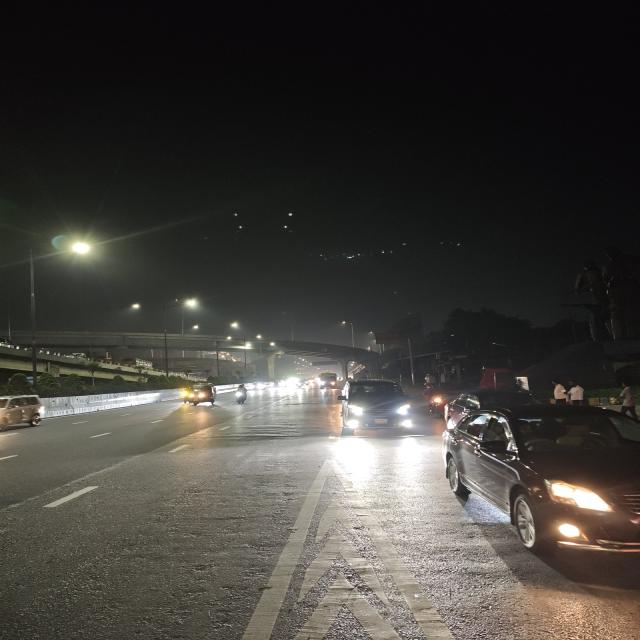bus: (316, 370, 340, 391)
car: (439, 393, 640, 564), (334, 378, 423, 438), (0, 390, 49, 434)
cng: (174, 380, 224, 410)
motorcycle: (231, 383, 250, 406)
pedestrian: (548, 380, 569, 406), (566, 382, 588, 406)
